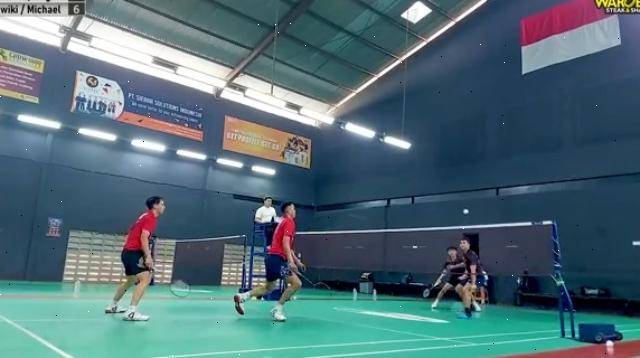Shuttlecock: (461, 206, 471, 217)
